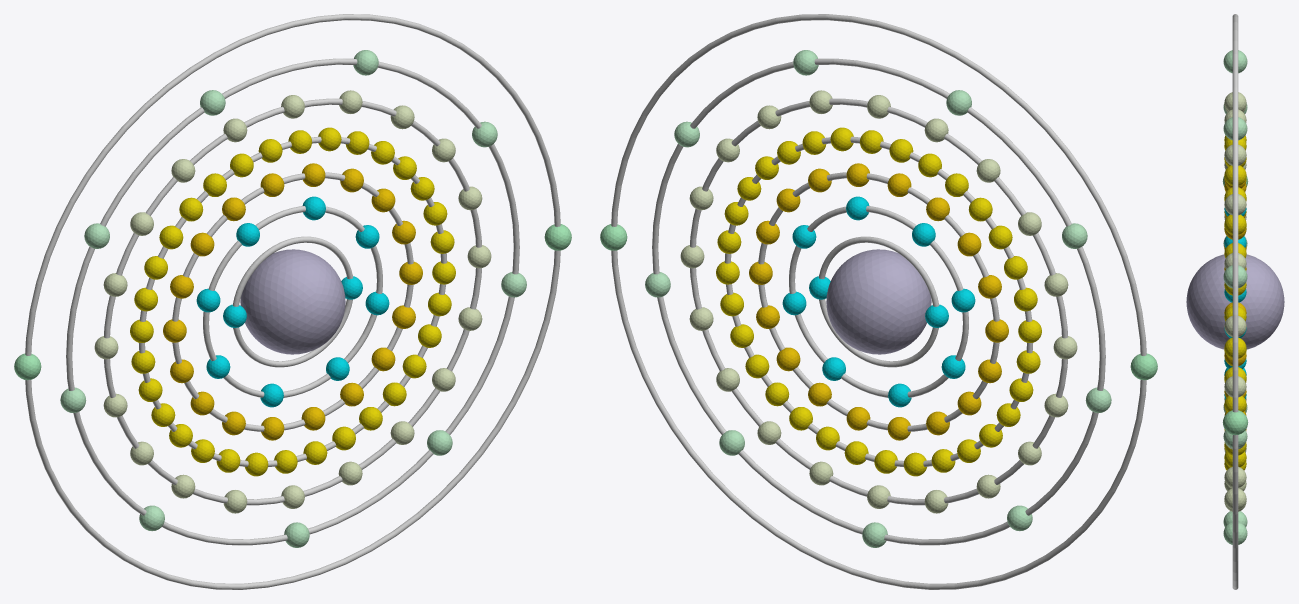
The picture shows the model from 3 angles, left to right: view 1: azimuth 30°, elevation 25°; view 2: azimuth 150°, elevation 25°; view 3: azimuth 270°, elevation 25°; orthographic projection. The views are drawn at different scales.
Parts seen in each view (by area): view 1: world; view 2: world; view 3: world.
Part boxes in pixels (x1,y1,x2,y2): world: [14, 14, 571, 589]; world: [600, 14, 1157, 589]; world: [1186, 14, 1284, 589].
Size of the model in its own units: 2.67 by 2.59 by 0.44.
